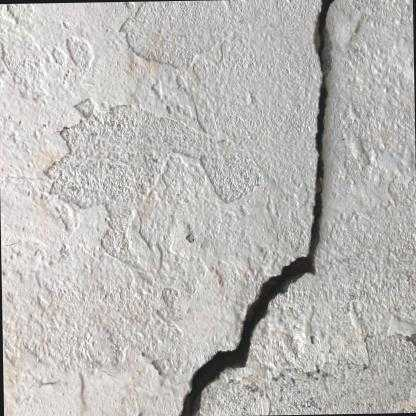crack: (175, 0, 336, 416)
